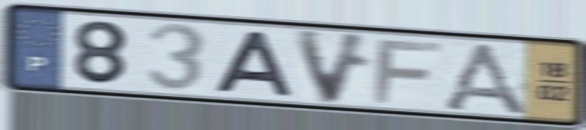3: (144, 21, 212, 94)
8: (72, 18, 132, 86)
A: (436, 40, 535, 119), (211, 28, 299, 99)
F: (370, 38, 446, 106)
V: (290, 26, 375, 107)
